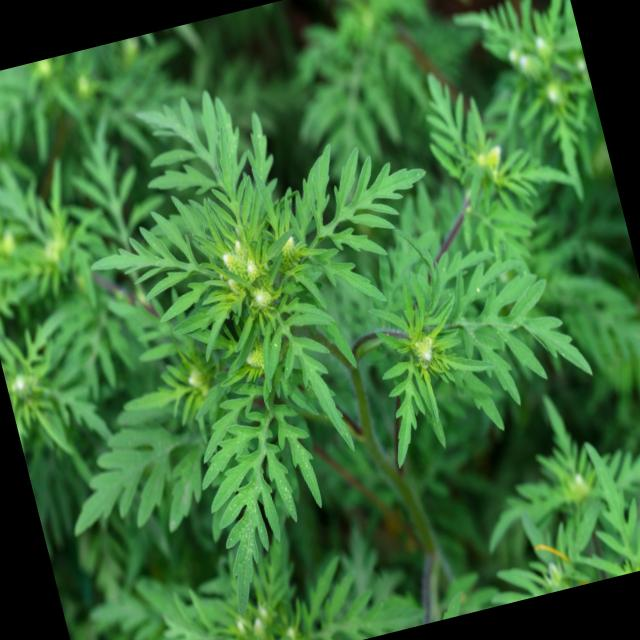ambrosia: (54, 46, 438, 549), (382, 0, 624, 263), (501, 422, 640, 596)
